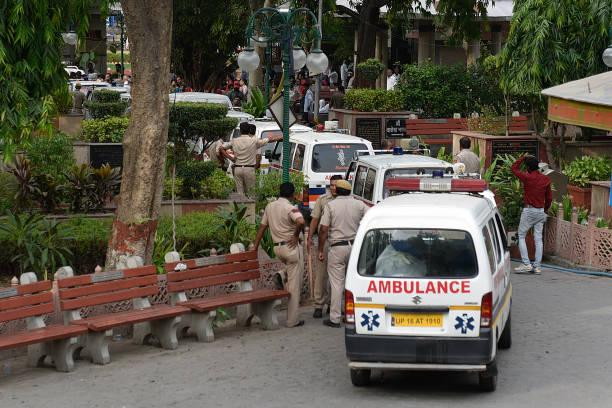AMBULANCE: (338, 180, 516, 378), (293, 128, 354, 186)
